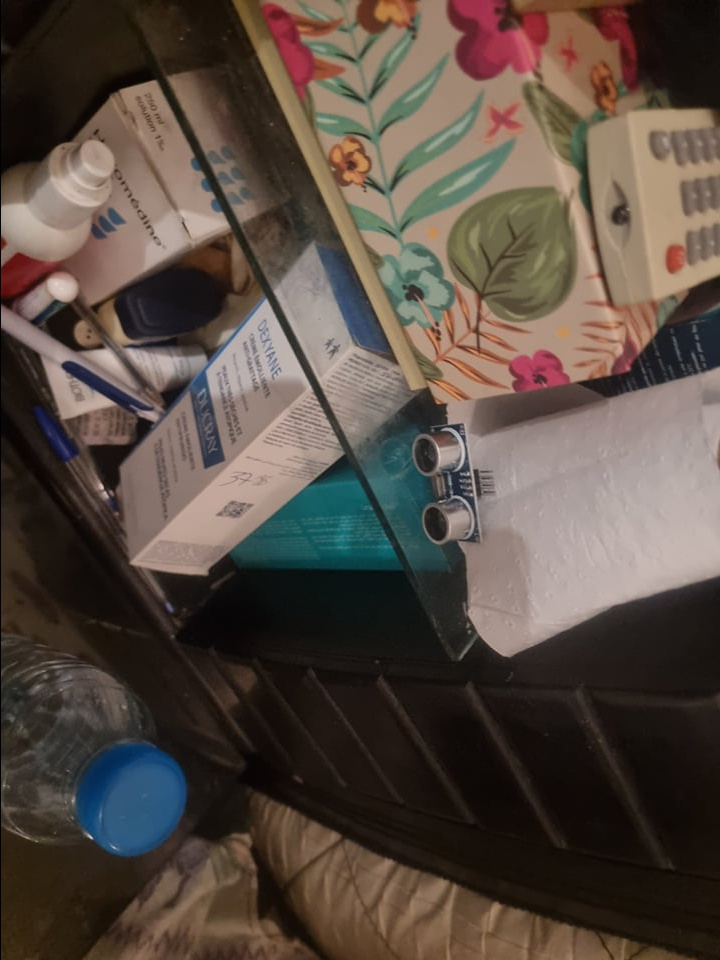SENSOR: (406, 419, 475, 549)
